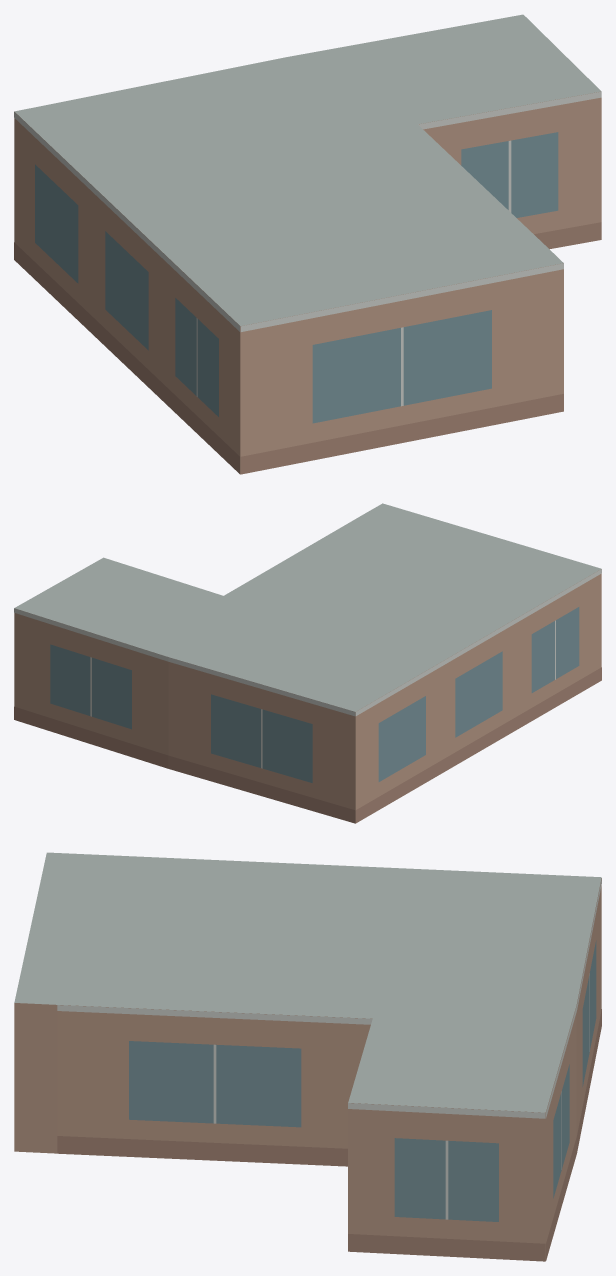
File: survey-upis-33017114.glb
3 views of the same model, one above another, from view 1: azimuth 30°, elevation 25°; view 2: azimuth 150°, elevation 25°; view 3: azimuth 270°, elevation 25° (orthographic). The views are drawn at different scales.
Visible parts, largest first — view 1: survey-upis-33017114.tmp; view 2: survey-upis-33017114.tmp; view 3: survey-upis-33017114.tmp.
Part boxes in pixels (x1,y1,x2,y2): survey-upis-33017114.tmp: (14,14,601,474); survey-upis-33017114.tmp: (14,503,601,823); survey-upis-33017114.tmp: (14,852,601,1261).
Size of the model in its own units: 11.46 by 3.05 by 10.93.
